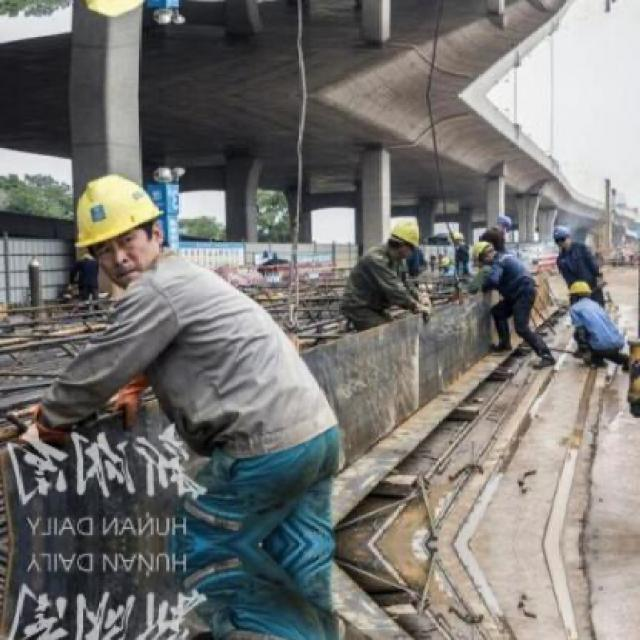helmet: (68, 162, 178, 290), (66, 0, 179, 31), (389, 218, 423, 260), (563, 274, 592, 310), (550, 225, 578, 255), (472, 240, 502, 264), (492, 211, 512, 233)
